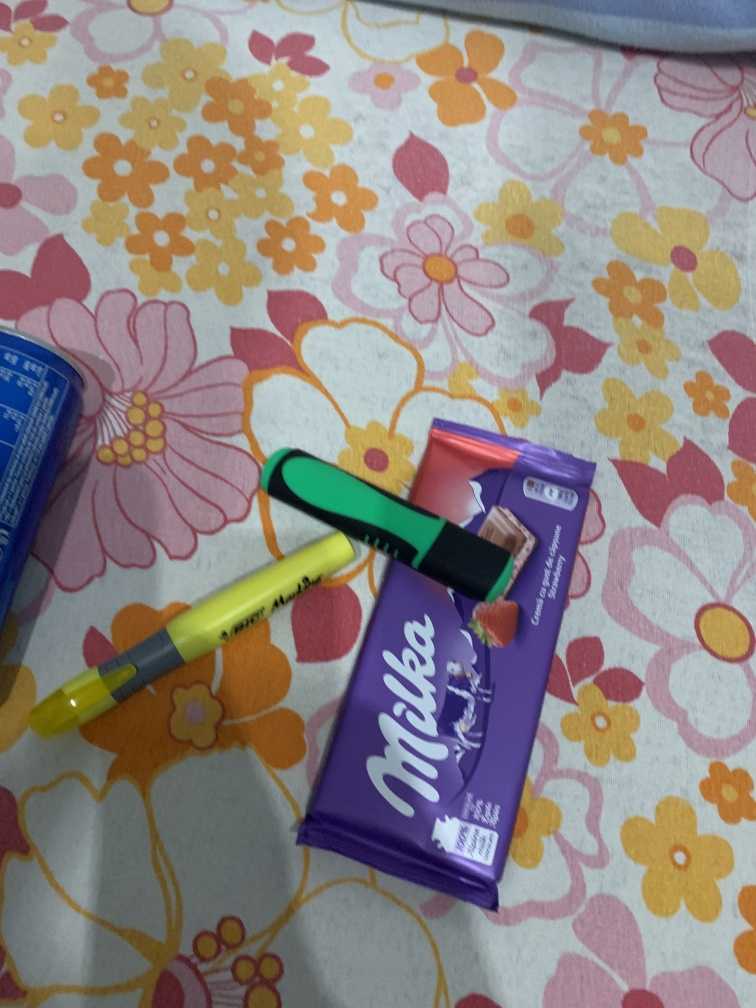milka: (295, 415, 596, 910)
